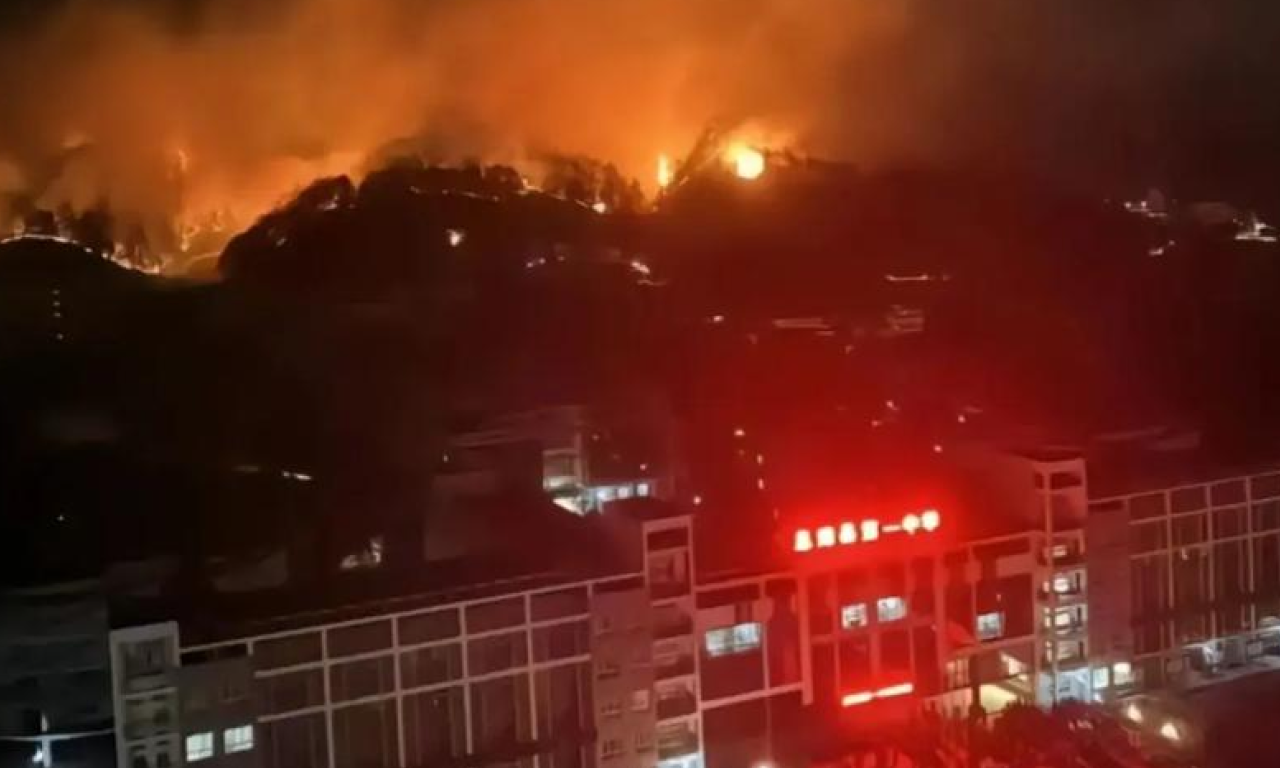fire: (14, 10, 812, 259)
